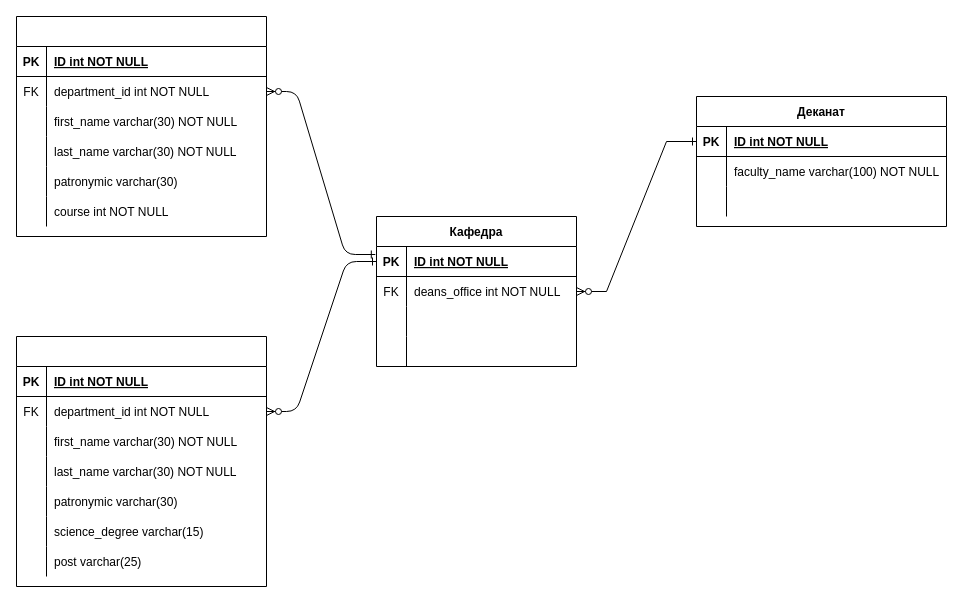
This 963x603 diagram has some shape labels left out. The box of each missing label's shape, as (x1, y1, x2, y2) in pixels:
Преподаватель: (16, 336, 266, 586)
Студент: (16, 16, 266, 236)
